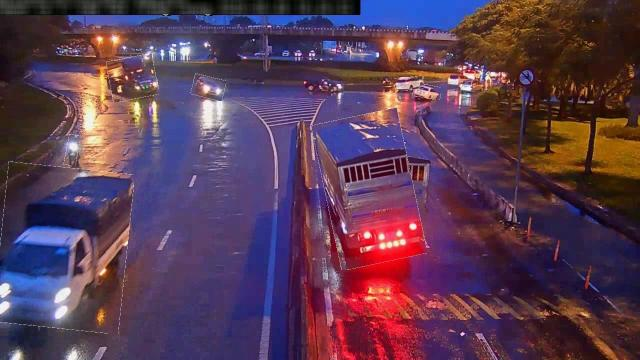Bike: (65, 134, 79, 166)
Car: (191, 75, 225, 100), (413, 84, 441, 99), (394, 76, 424, 90)
Truck: (0, 164, 132, 332), (318, 112, 419, 266), (108, 56, 158, 100)
